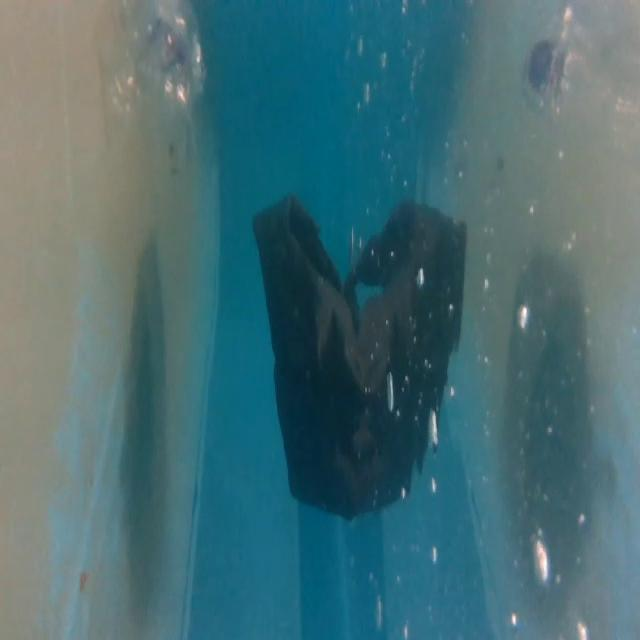plastic bags: (242, 187, 468, 527)
